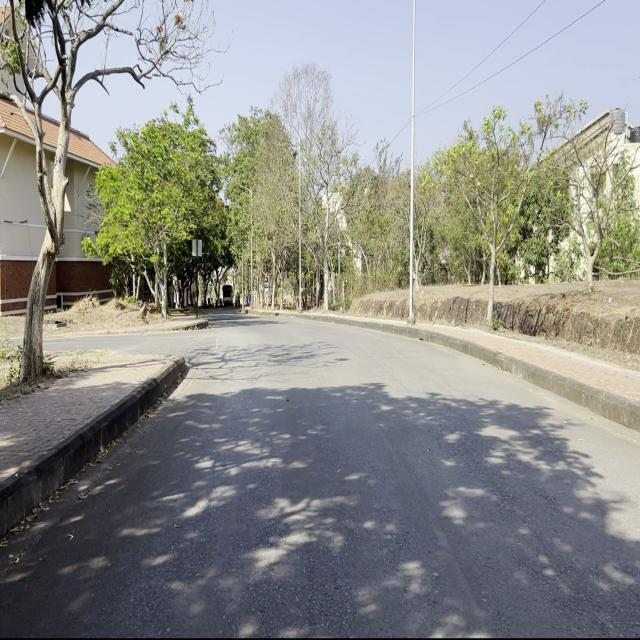Road: (2, 312, 637, 633)
